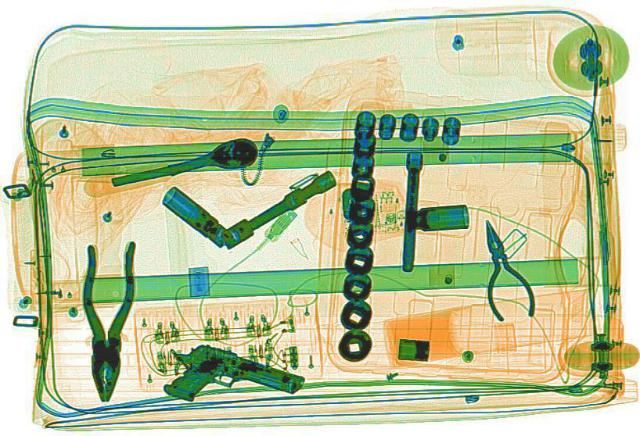Gun: (150, 336, 310, 423)
Pliers: (78, 239, 134, 400), (462, 217, 540, 321)
